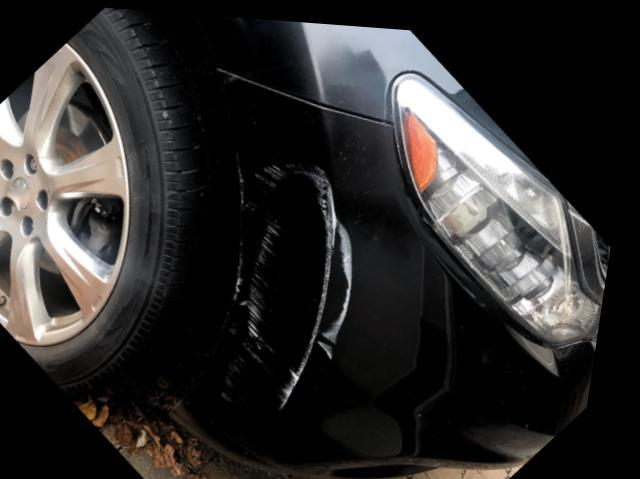scratch: (222, 148, 368, 407)
